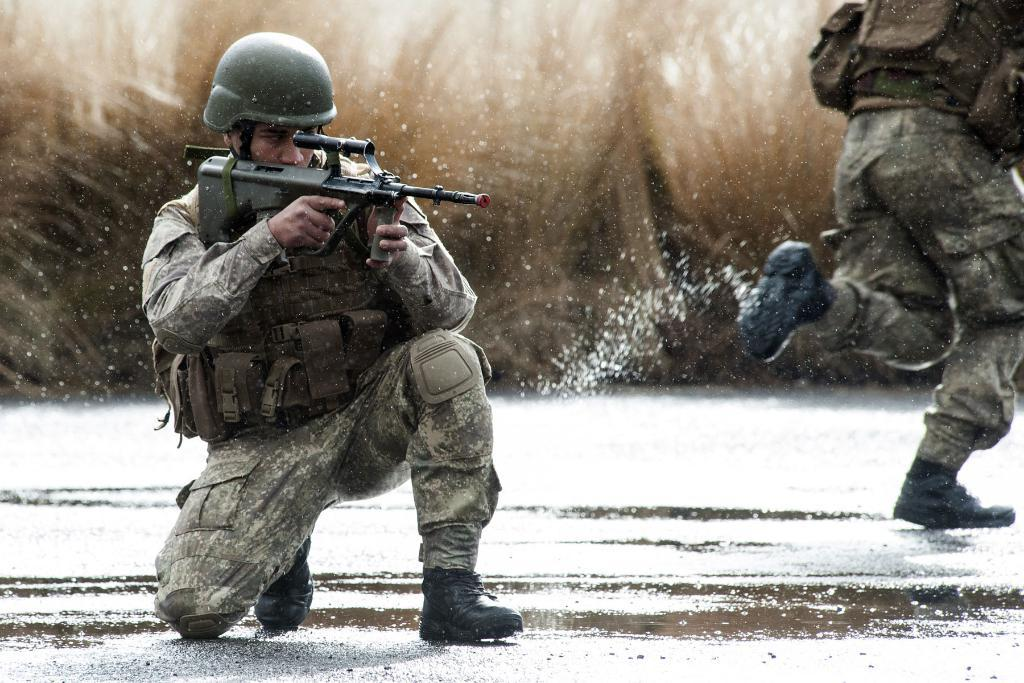Rifle: (196, 129, 490, 263)
